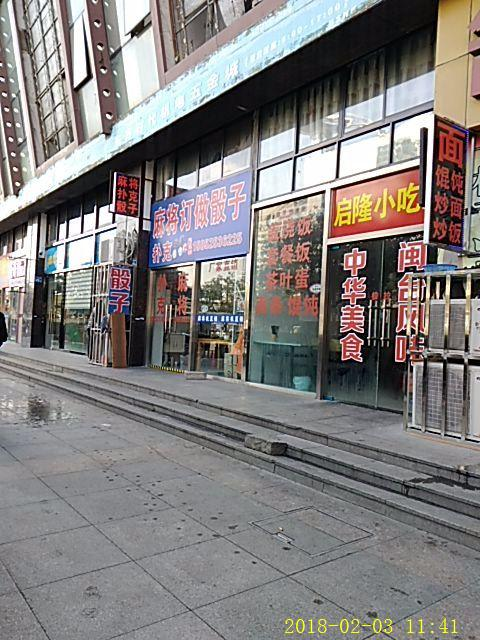multi_signs: (148, 165, 255, 271), (111, 171, 143, 219), (108, 264, 133, 317)
